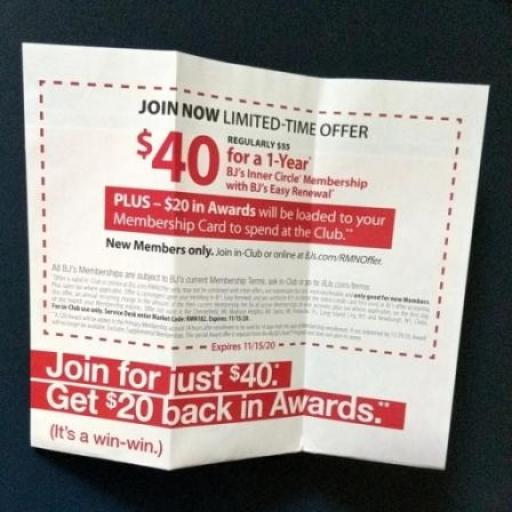paper: (4, 7, 500, 512)
